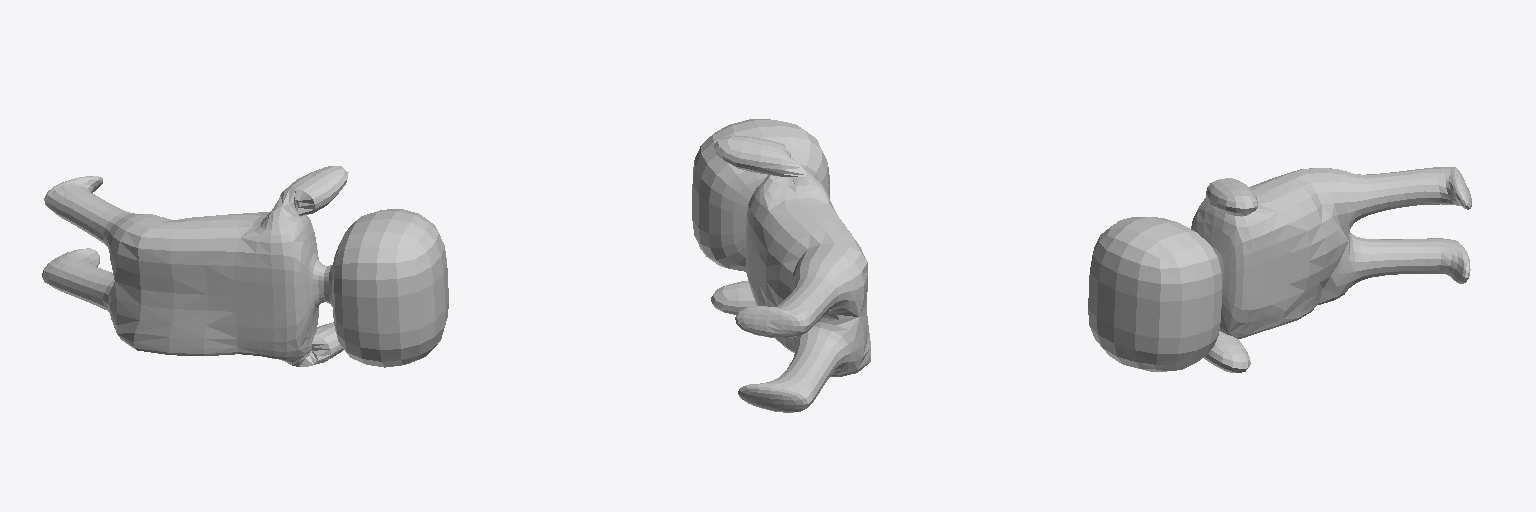
File: antman_push_6.obj
The picture shows the model from 3 angles: view 1: azimuth 30°, elevation 25°; view 2: azimuth 150°, elevation 25°; view 3: azimuth 270°, elevation 25°; orthographic projection.
Visible parts, largest first — view 1: Cube; view 2: Cube; view 3: Cube.
Part boxes in pixels (x1,y1,x2,y2): Cube: (42,166,448,367); Cube: (692,119,870,412); Cube: (1088,167,1471,372).
Size of the model in its own units: 1.25 by 0.8339 by 1.63.